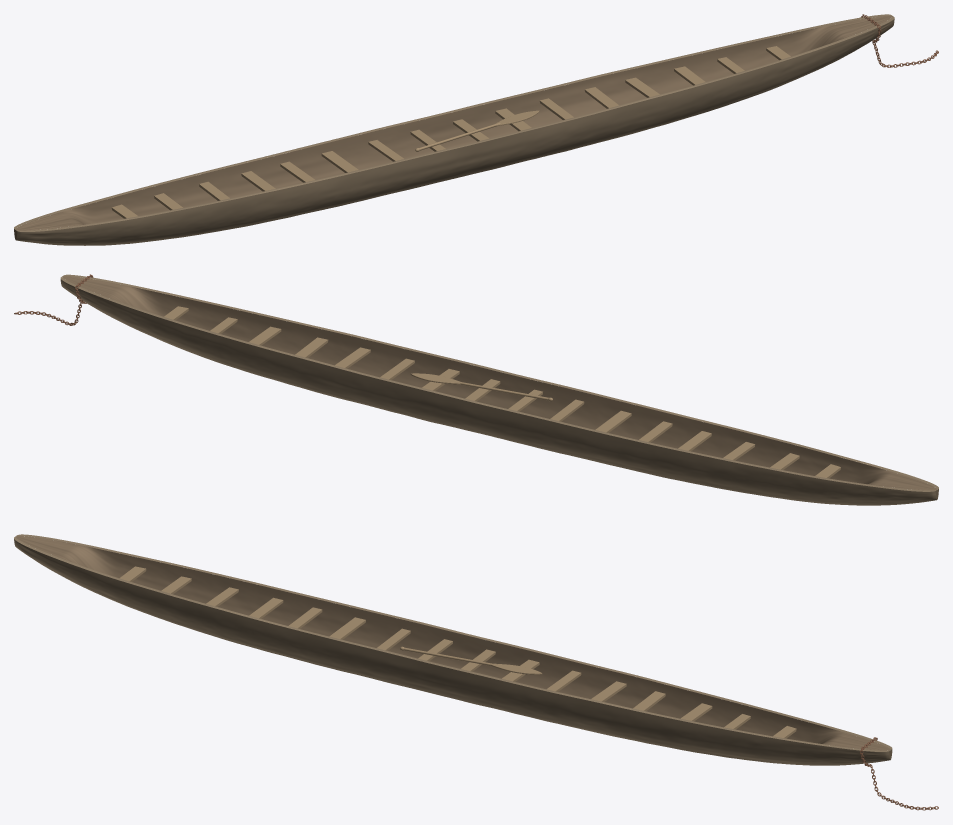
The model's file is pirogue-transport.glb.
The picture shows the model from 3 angles, top to bottom: view 1: azimuth 30°, elevation 25°; view 2: azimuth 150°, elevation 25°; view 3: azimuth 330°, elevation 25°; orthographic projection.
Visible parts, largest first — view 1: coque_exterieur, coque_interieur, banc_01; view 2: coque_exterieur, coque_interieur, banc_01; view 3: coque_exterieur, coque_interieur, banc_01.
Boxes of the visible parts, box(x1,y1,x2,y2) form: coque_exterieur: box(14, 14, 894, 245); coque_interieur: box(15, 16, 892, 230); banc_01: box(111, 46, 790, 218); coque_exterieur: box(60, 274, 938, 505); coque_interieur: box(62, 276, 937, 490); banc_01: box(164, 306, 840, 478); coque_exterieur: box(14, 534, 892, 765); coque_interieur: box(15, 536, 890, 750); banc_01: box(119, 566, 796, 738).
Size of the model in its own units: 12.64 by 0.6739 by 0.9492.
